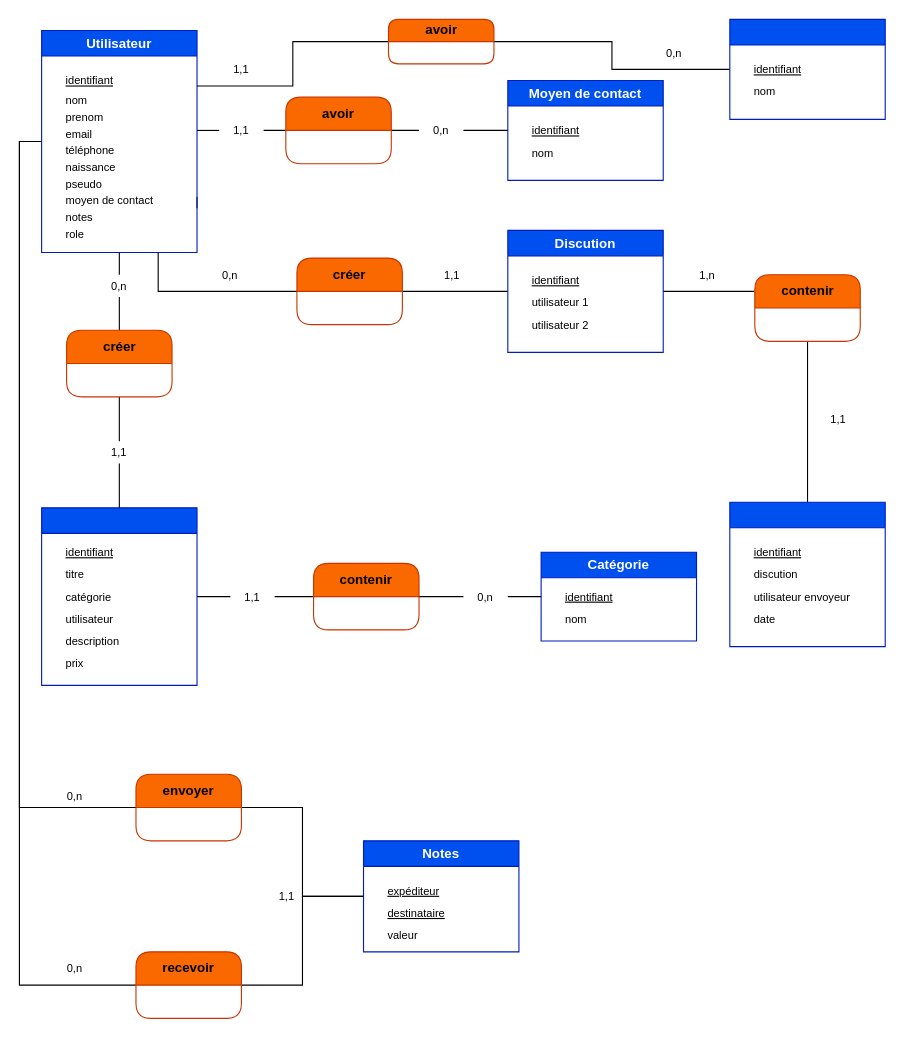
Some shapes in this 905 by 1038 pixel diagram are drawn without their labels. Here are the shapes that lost their labels. From the top down, the box of each, then its label:
(729, 18, 885, 119): Rôles
(729, 501, 885, 647): Message
(41, 507, 197, 685): Annonce
